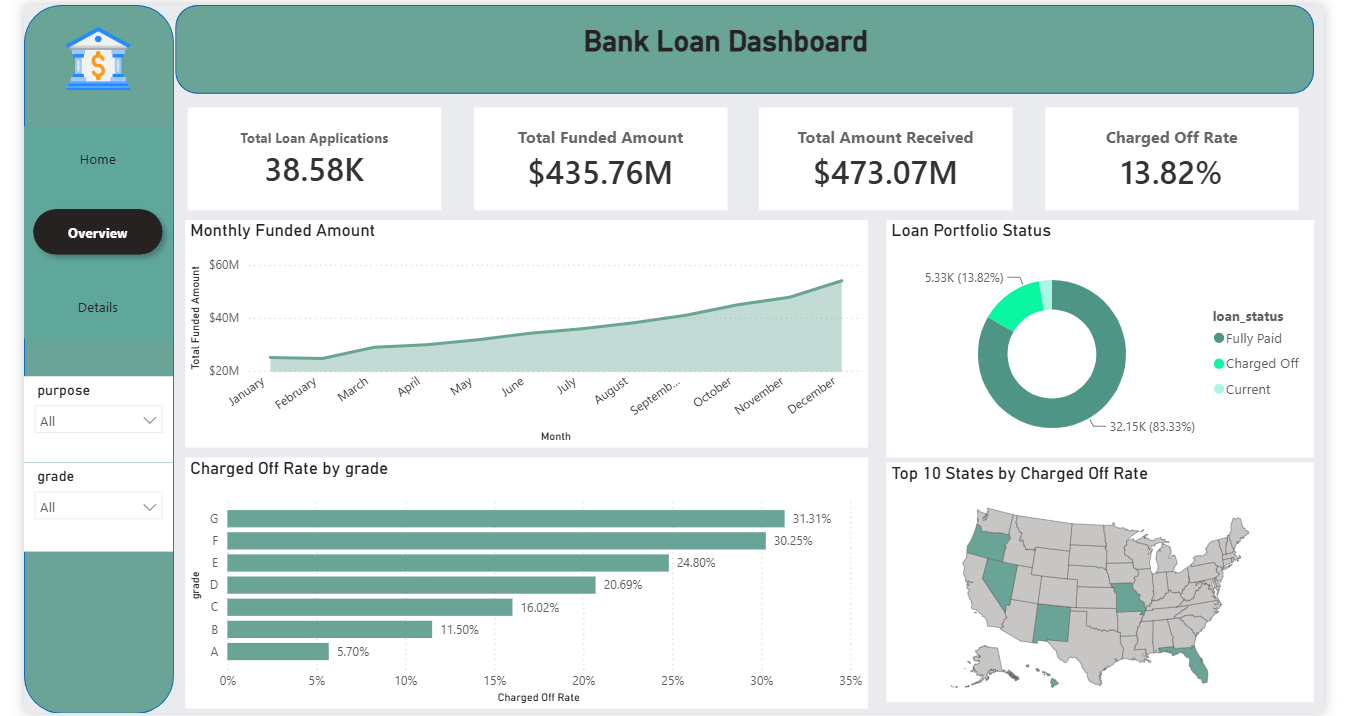

What the dashboard file says about the page in this screenshot:
{"tool":"powerbi","page":{"name":"Overview","canvas":[1284,700],"ordinal":1},"visuals":[{"type":"shape","box":[0,0,148.1,700],"z":0},{"type":"shape","box":[149.4,0,1124.7,87.7],"z":1000},{"type":"cardVisual","fields":{"Data":["bank_loan_clean.total_loan_applications"]},"box":[161.7,101.2,250.6,101.2],"z":2000},{"type":"textbox","title":" Bank Loan Dashboard     ","box":[355.6,18.5,675.3,48.1],"z":3000},{"type":"cardVisual","fields":{"Data":["bank_loan_clean.Total Funded Amount"]},"box":[444,101.2,250.6,101.2],"z":4000},{"type":"cardVisual","fields":{"Data":["bank_loan_clean.Total Amount Recieved"]},"box":[726.3,101.2,250.6,101.2],"z":5000},{"type":"cardVisual","fields":{"Data":["bank_loan_clean.Charged Off Rate"]},"box":[1008.6,101.2,250.6,101.2],"z":6000},{"type":"image","box":[18.5,18.5,109.9,69.1],"z":7000},{"type":"barChart","fields":{"Category":["bank_loan_clean.grade"],"Y":["bank_loan_clean.Charged Off Rate"]},"box":[159.3,446.9,674.1,248.1],"z":8000},{"type":"donutChart","title":"Loan Portfolio Status","fields":{"Category":["bank_loan_clean.loan_status"],"Y":["CountNonNull(bank_loan_clean.loan_status)"]},"box":[851.9,212.3,422.2,234.6],"z":9000},{"type":"lineChart","title":"Monthly Funded Amount","fields":{"Category":["bank_loan_clean.issue_date.Variation.Date Hierarchy.Month"],"Y":["bank_loan_clean.Total Funded Amount"]},"box":[159.3,212.3,674.1,224.7],"z":10000},{"type":"shapeMap","title":"Top 10 States by Charged Off Rate","fields":{"Category":["bank_loan_clean.address_state"]},"box":[852,452,422,237],"z":11000},{"type":"slicer","fields":{"Values":["bank_loan_clean.purpose"]},"box":[0,366.7,146.9,85.2],"z":12000},{"type":"slicer","fields":{"Values":["bank_loan_clean.grade"]},"box":[0,451.9,146.9,87.7],"z":13000},{"type":"pageNavigator","box":[0,119.8,146.9,209.9],"z":14000}]}

Visuals, with their boxes on the page's 1284x700 design canvas (x1, y1, x2, y2). These are canvas units, not pixel positions in the 1353x716 screenshot, which may show the page scaled, cropped or inside an application window:
shape: (0,0,148,700)
shape: (149,0,1274,88)
cardVisual - bank_loan_clean.total_loan_applications: (162,101,412,202)
" Bank Loan Dashboard     " textbox: (356,18,1031,67)
cardVisual - bank_loan_clean.Total Funded Amount: (444,101,695,202)
cardVisual - bank_loan_clean.Total Amount Recieved: (726,101,977,202)
cardVisual - bank_loan_clean.Charged Off Rate: (1009,101,1259,202)
image: (18,18,128,88)
barChart - bank_loan_clean.grade x bank_loan_clean.Charged Off Rate: (159,447,833,695)
"Loan Portfolio Status" donutChart: (852,212,1274,447)
"Monthly Funded Amount" lineChart: (159,212,833,437)
"Top 10 States by Charged Off Rate" shapeMap: (852,452,1274,689)
slicer - bank_loan_clean.purpose: (0,367,147,452)
slicer - bank_loan_clean.grade: (0,452,147,540)
pageNavigator: (0,120,147,330)
